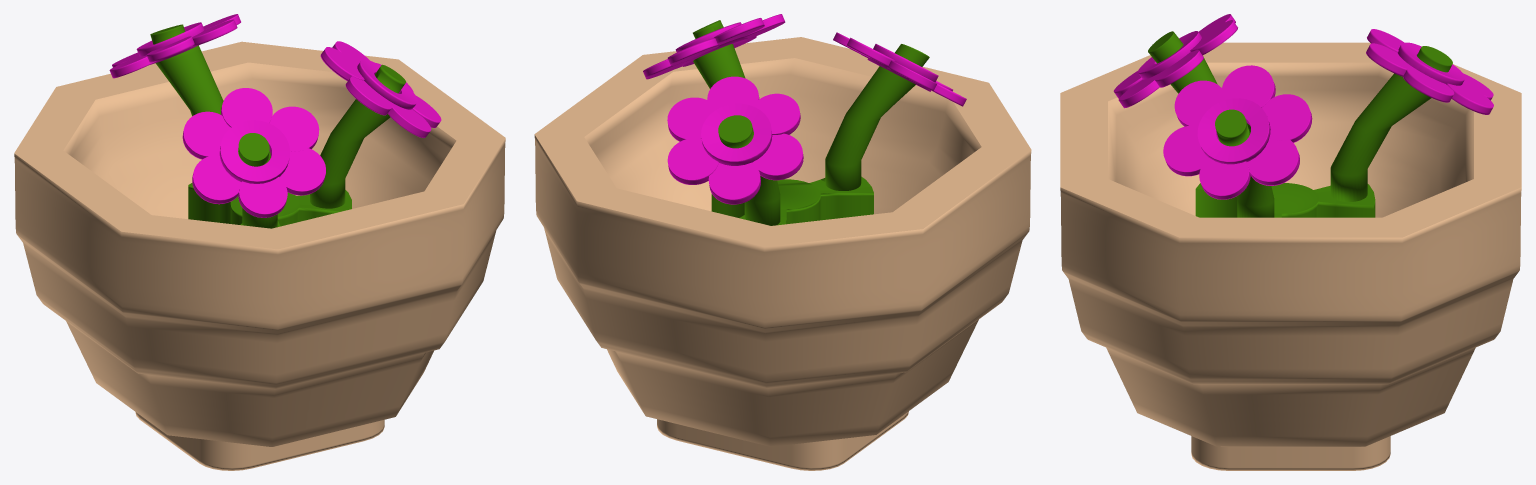
Rendered from FlowerPot.fbx.
3 views of the same model, side by side, from view 1: azimuth 30°, elevation 25°; view 2: azimuth 150°, elevation 25°; view 3: azimuth 270°, elevation 25° (orthographic). The views are drawn at different scales.
Parts seen in each view (by area): view 1: Cube, Cylinder.018, Cube.001; view 2: Cube, Cylinder.018, Cube.001; view 3: Cube, Cylinder.018, Cube.001.
Boxes of the visible parts, left/top/right/bottom form: Cube: left=14, top=41, right=505, bottom=446; Cylinder.018: left=109, top=14, right=441, bottom=228; Cube.001: left=135, top=412, right=384, bottom=470; Cube: left=534, top=37, right=1031, bottom=446; Cylinder.018: left=643, top=14, right=966, bottom=225; Cube.001: left=657, top=411, right=908, bottom=470; Cube: left=1060, top=42, right=1521, bottom=446; Cylinder.018: left=1113, top=14, right=1493, bottom=217; Cube.001: left=1191, top=436, right=1390, bottom=470.
Size of the model in its own units: 336 by 309 by 336.
